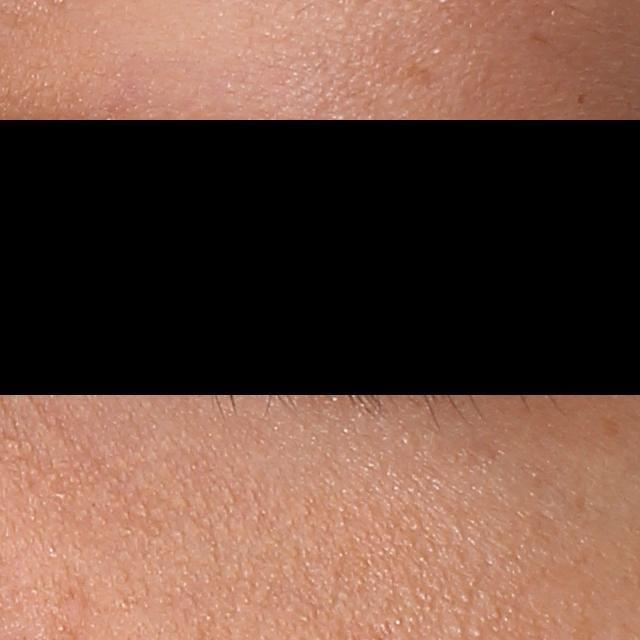melasma: (598, 414, 623, 440)
